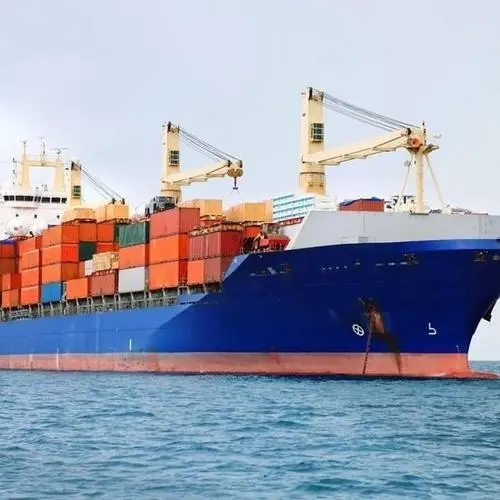Cargoship: (1, 79, 500, 372)
